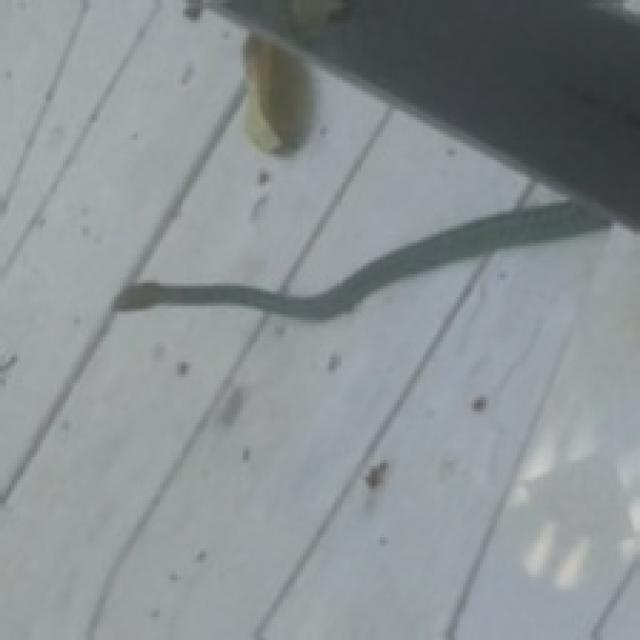paradise tree snake: (114, 200, 609, 317)
